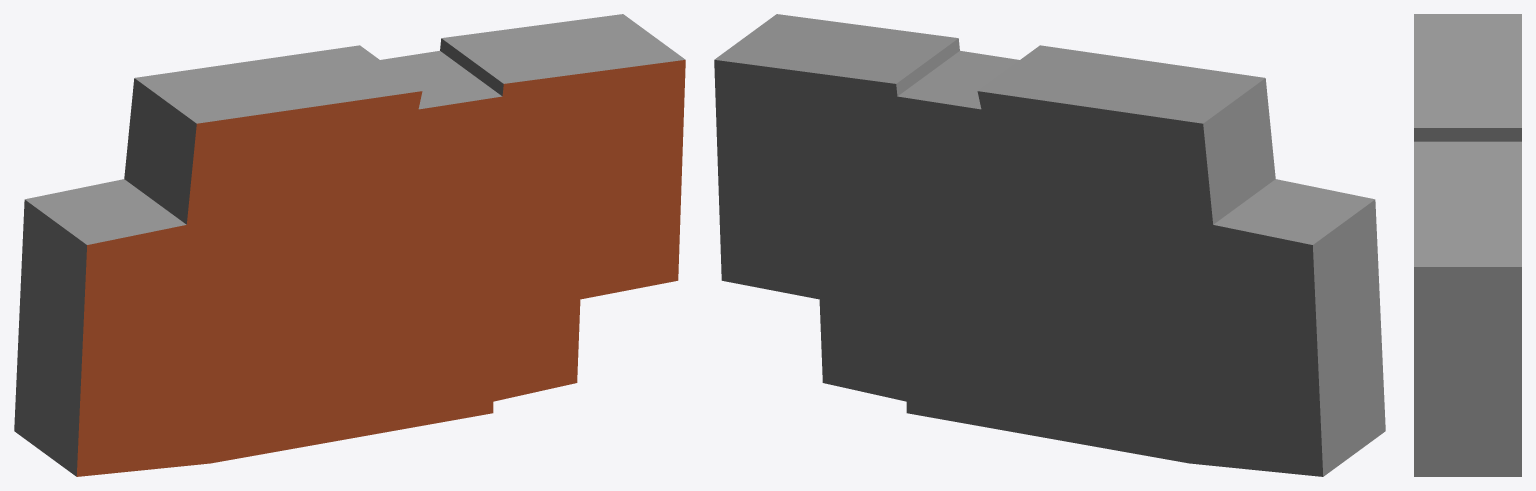
File: construction_1070_assumed_A_Igreja_matriz_h6m.obj
3 views of the same model, side by side, from view 1: azimuth 30°, elevation 25°; view 2: azimuth 150°, elevation 25°; view 3: azimuth 270°, elevation 25° (orthographic). The views are drawn at different scales.
Visible parts, largest first — view 1: construction_1070_assumed_A_Igreja_matriz; view 2: construction_1070_assumed_A_Igreja_matriz; view 3: construction_1070_assumed_A_Igreja_matriz.
Part boxes in pixels (x1=…): construction_1070_assumed_A_Igreja_matriz: x1=14, y1=14, x2=685, y2=476; construction_1070_assumed_A_Igreja_matriz: x1=714, y1=14, x2=1385, y2=476; construction_1070_assumed_A_Igreja_matriz: x1=1414, y1=14, x2=1521, y2=476.
Bounding box in the file's own units: 33.73 × 19.15 × 6.
